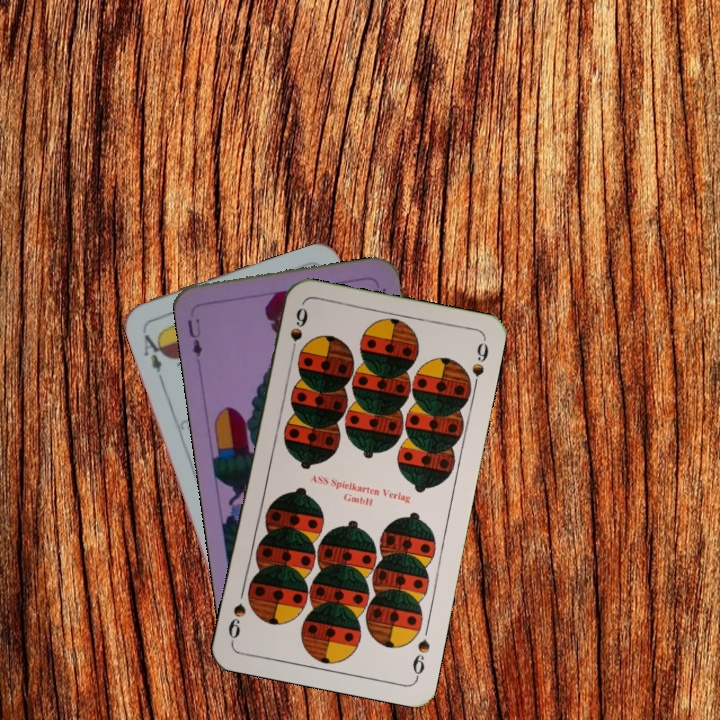EA: (139, 328, 168, 382)
EU: (183, 314, 205, 360)
S9: (286, 303, 310, 361), (408, 635, 432, 681)
